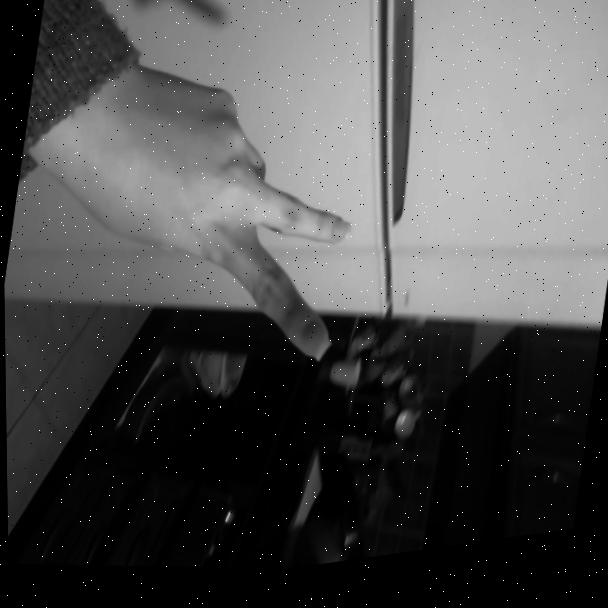two: (42, 44, 376, 404)
